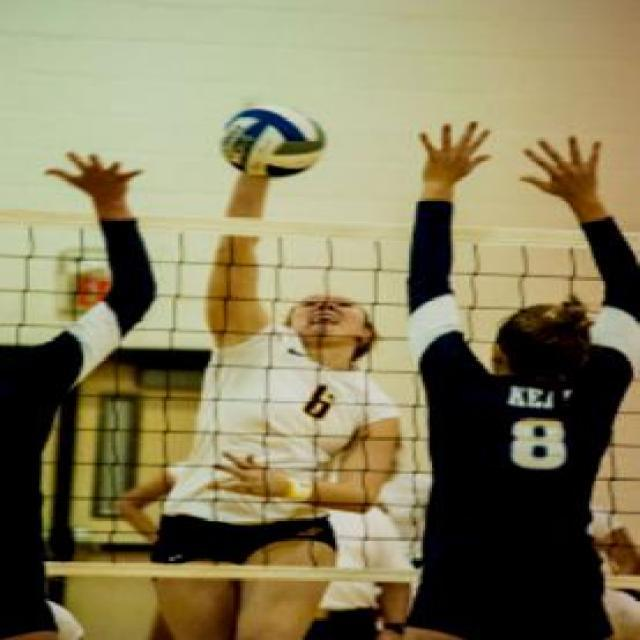volleyball: (219, 99, 325, 178)
